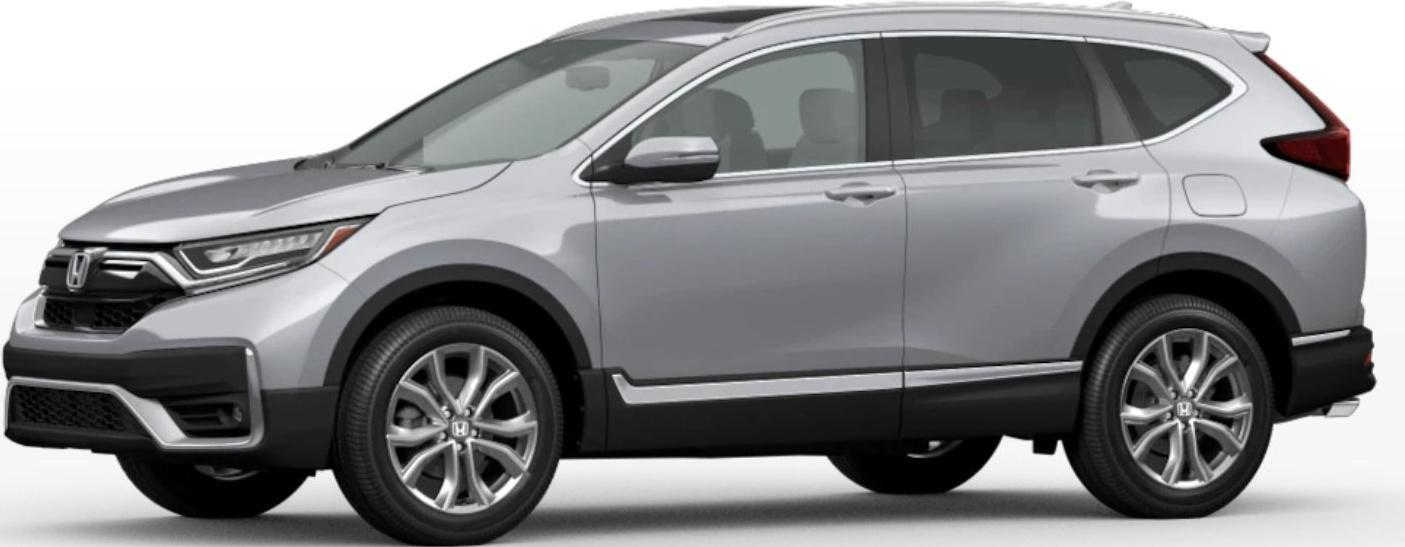SUV: (1, 6, 1376, 544)
